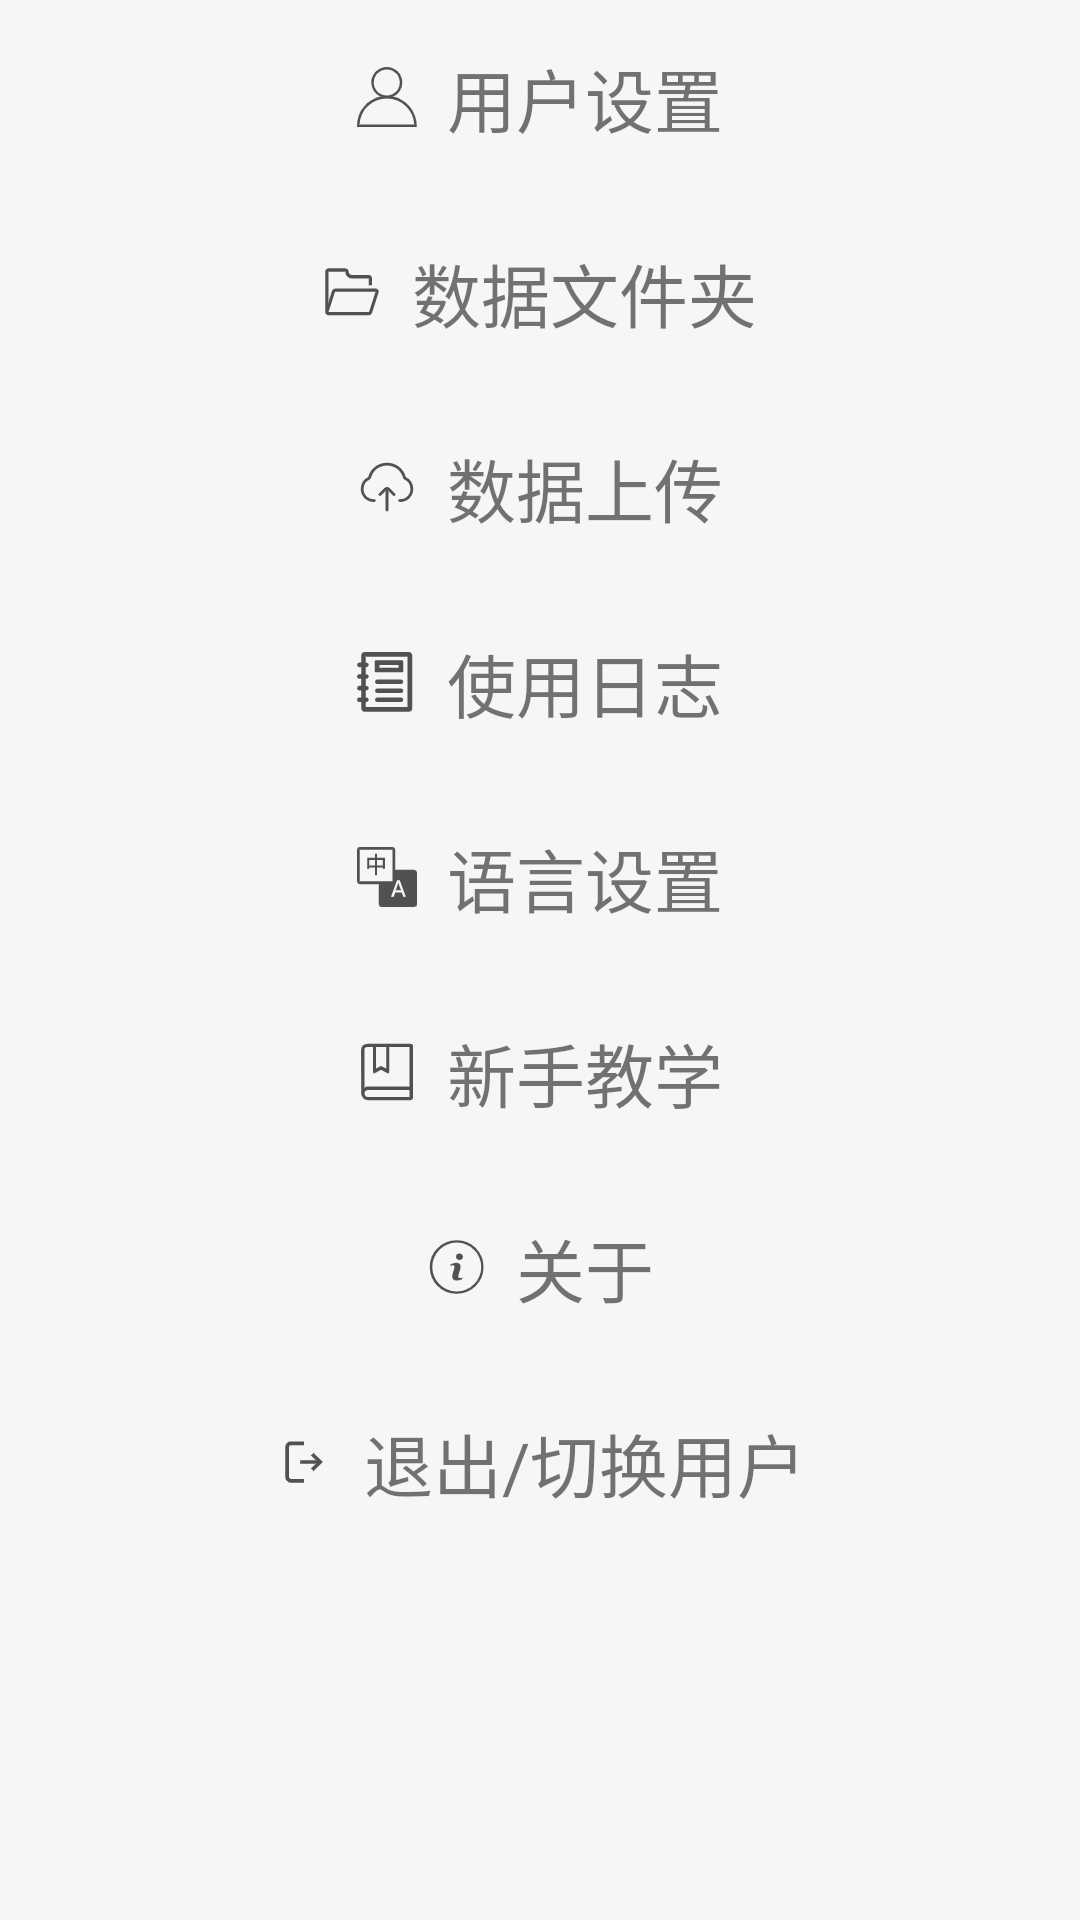

Where to tap for icons on this 1080w x 1920h app screen, as (x=x, y=y):
about: (x=456, y=1267)
file: (x=352, y=292)
language: (x=387, y=877)
log: (x=385, y=682)
upload: (x=387, y=487)
user: (x=387, y=97)
